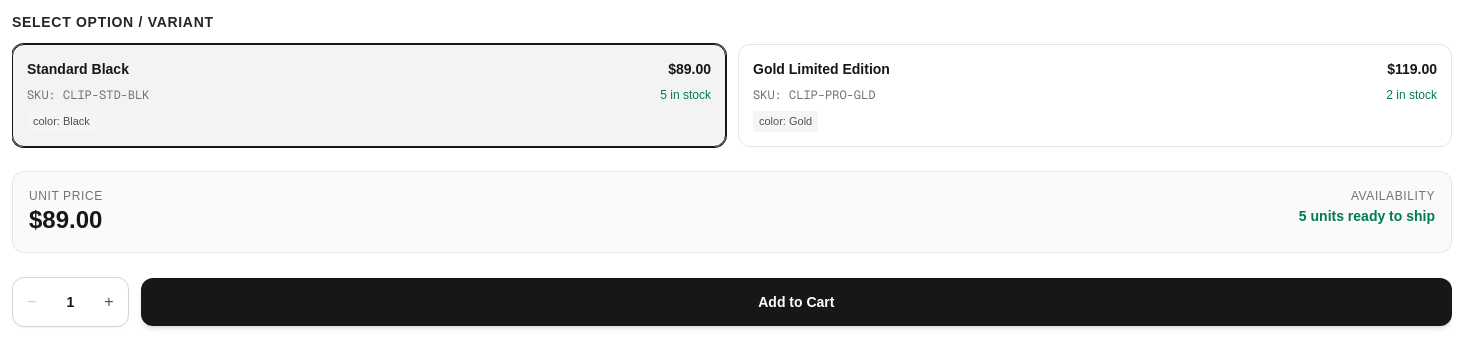
Frontend UI Components › AddToCartForm › renders variants and switches selected price on click
Expected: the text "Standard Black" is shown, [27,59,129,79]
Expected: the text "5 units ready to ship" is shown, [1299,208,1435,224]
// Click on Gold variant
Click the text "Gold Limited Edition": (821, 69) [753,59,890,79]
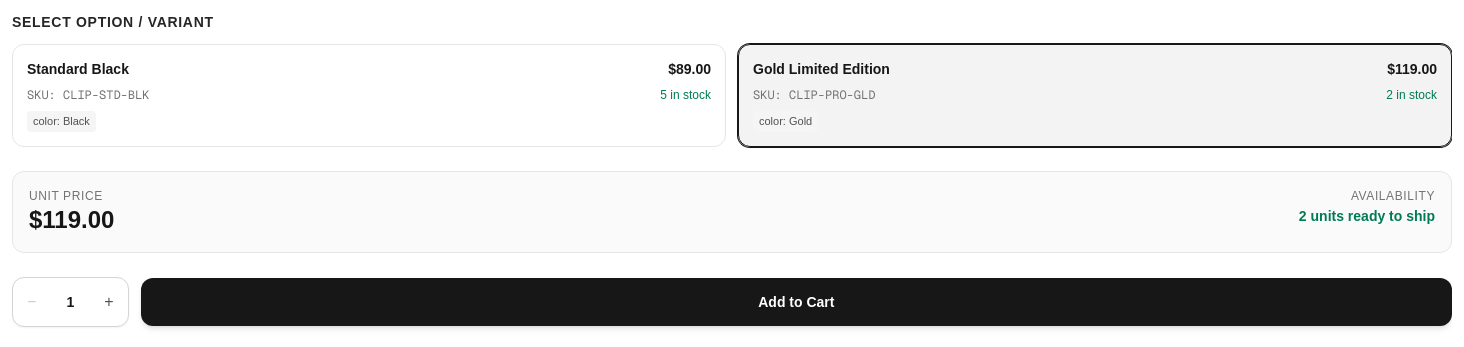
Expected: the text "2 units ready to ship" is shown, [1299,208,1435,224]
